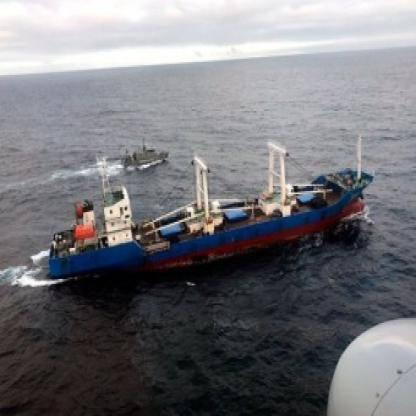fish-b: (39, 150, 383, 297)
